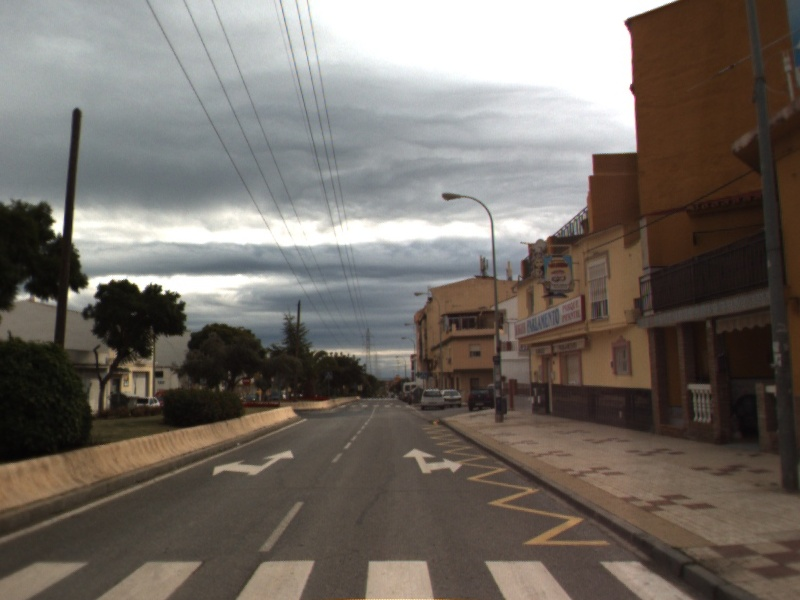STRAIGHT_LEFT: (210, 447, 297, 478)
STRAIGHT_RIGHT: (401, 446, 464, 475)
